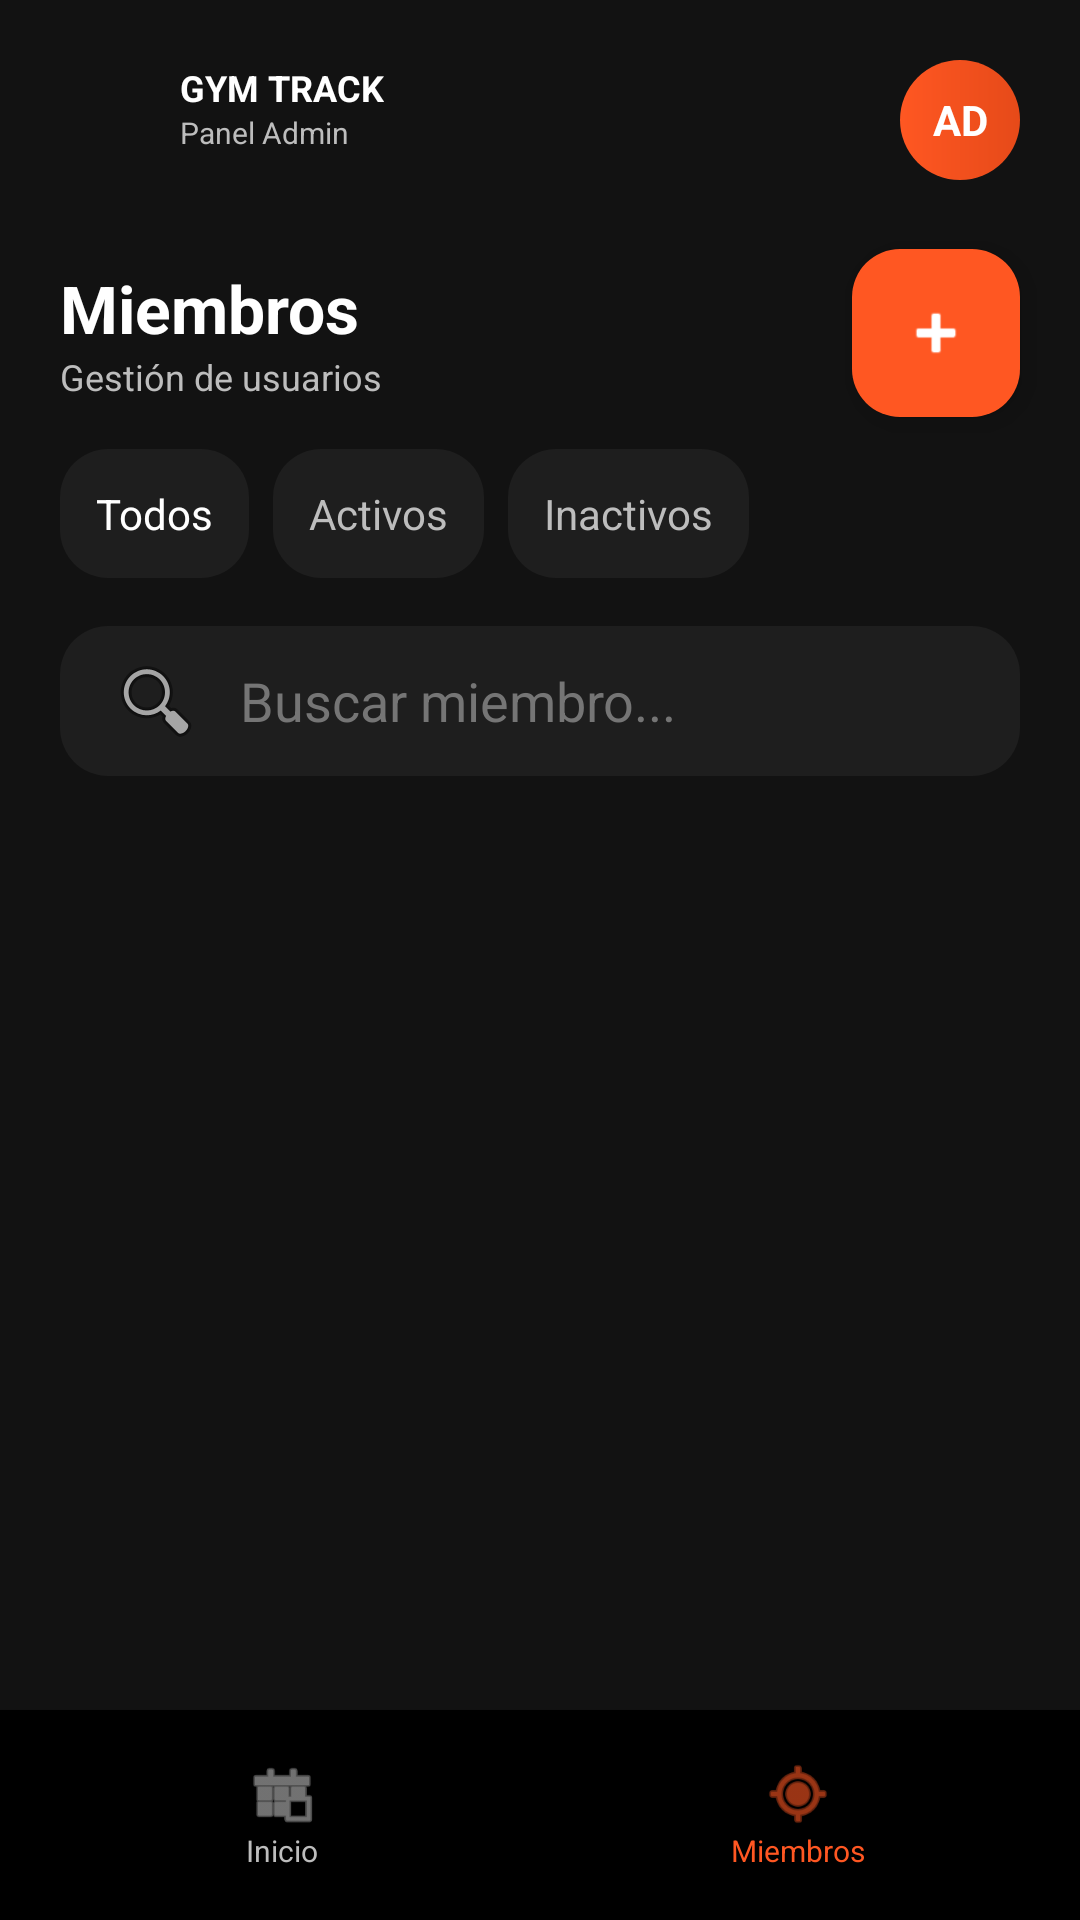

Named icons in this screenshot (1080px x 1920px) and their bounding boxes, (x1, y1, x2, y2):
add: (852, 249, 1020, 417)
mylocation: (769, 1765, 827, 1823)
today: (253, 1768, 312, 1823)
